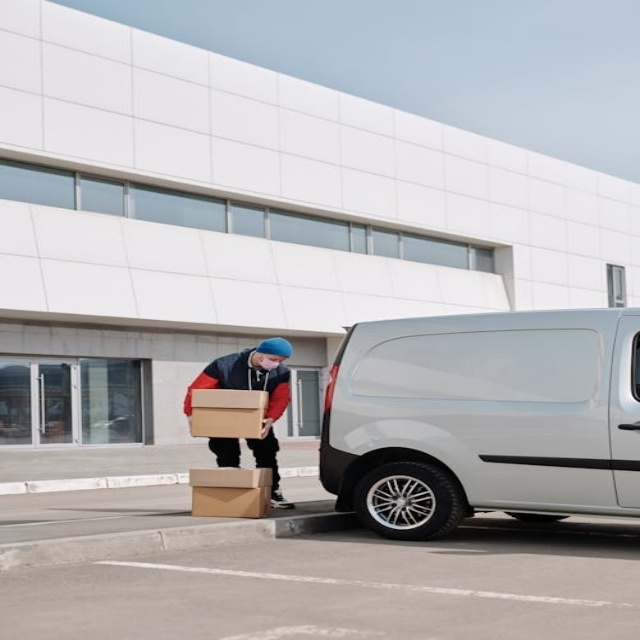Mascara: (255, 353, 280, 370)
Sin_guantes: (261, 416, 276, 442)
